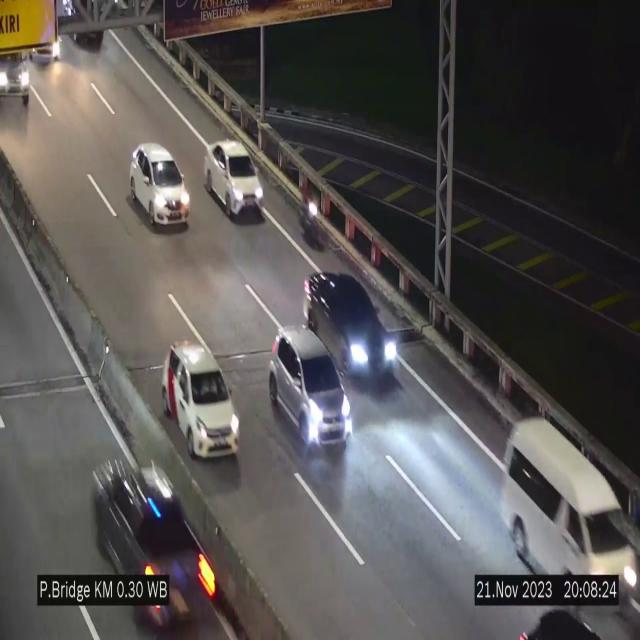Car: (486, 410, 636, 610), (86, 445, 210, 634), (306, 266, 402, 393), (270, 326, 352, 454), (163, 343, 240, 458), (130, 144, 190, 228), (204, 141, 264, 219), (0, 50, 35, 104)
Motorcycle: (301, 175, 322, 246)
